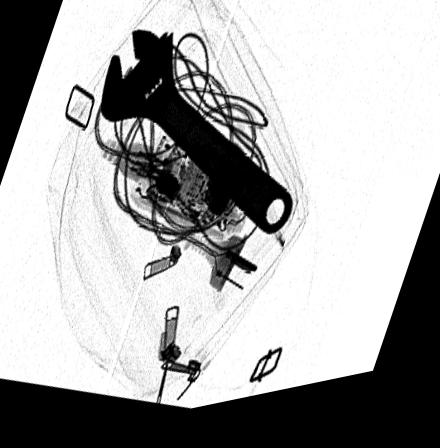Wrench: (99, 34, 295, 245)
